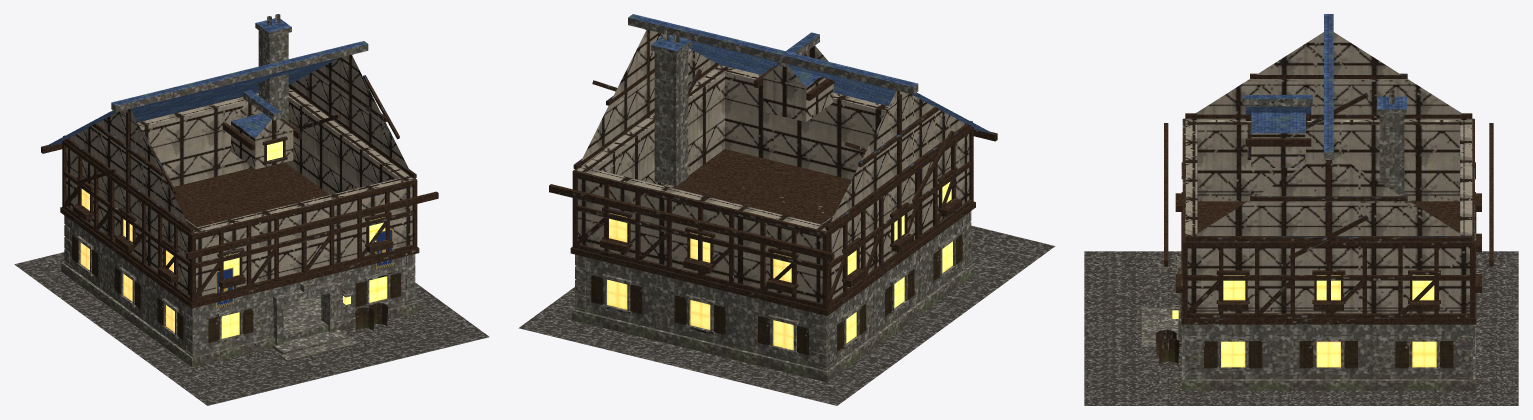
Rendered from bld_house4_card_lod1.glb.
The picture shows the model from 3 angles, left to right: view 1: azimuth 30°, elevation 25°; view 2: azimuth 150°, elevation 25°; view 3: azimuth 270°, elevation 25°; orthographic projection. The views are drawn at different scales.
Visible parts, largest first — view 1: house4_card; view 2: house4_card; view 3: house4_card.
Part boxes in pixels (x1,y1,x2,y2): house4_card: (14,14,489,405); house4_card: (518,14,1055,405); house4_card: (1084,14,1518,405).
Bounding box in the file's own units: 23.01 × 18.52 × 27.03.
Materials: 1 (1 with a texture image).
